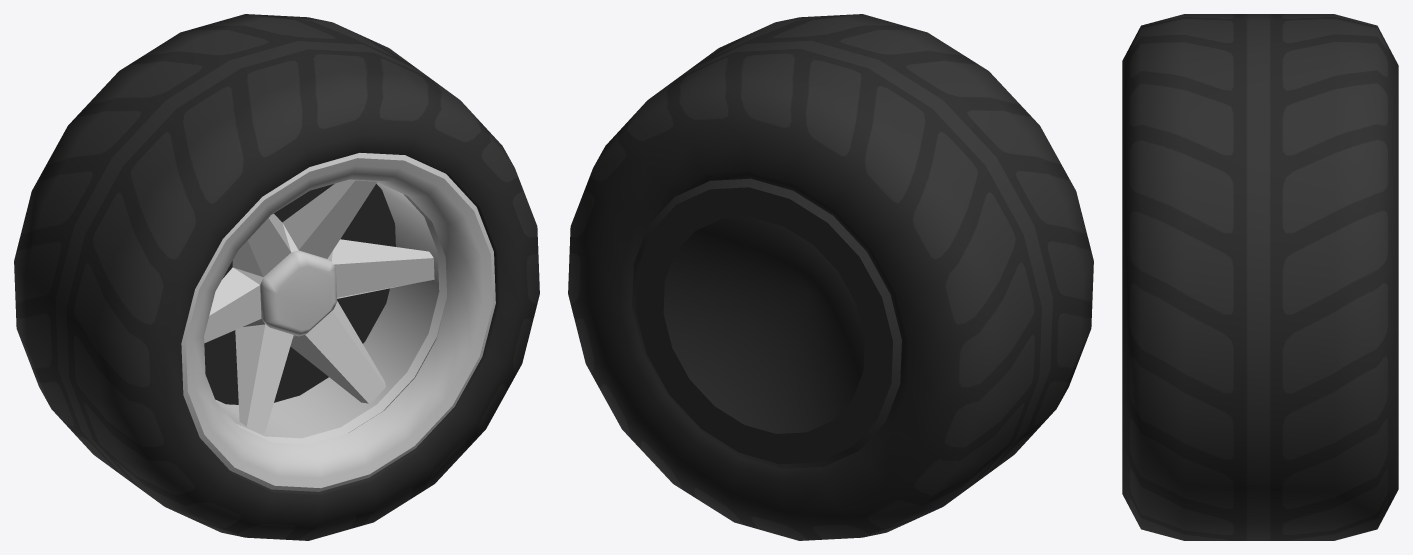
The model's file is Wheel_06.fbx.
The picture shows the model from 3 angles, left to right: view 1: azimuth 30°, elevation 25°; view 2: azimuth 150°, elevation 25°; view 3: azimuth 270°, elevation 25°; orthographic projection. The views are drawn at different scales.
Parts seen in each view (by area): view 1: Wheel_06; view 2: Wheel_06; view 3: Wheel_06.
Part boxes in pixels (<box>): Wheel_06: <box>14,14,539,540</box>; Wheel_06: <box>568,14,1093,540</box>; Wheel_06: <box>1122,14,1398,540</box>.
Bounding box in the file's own units: 95 × 50 × 95.
